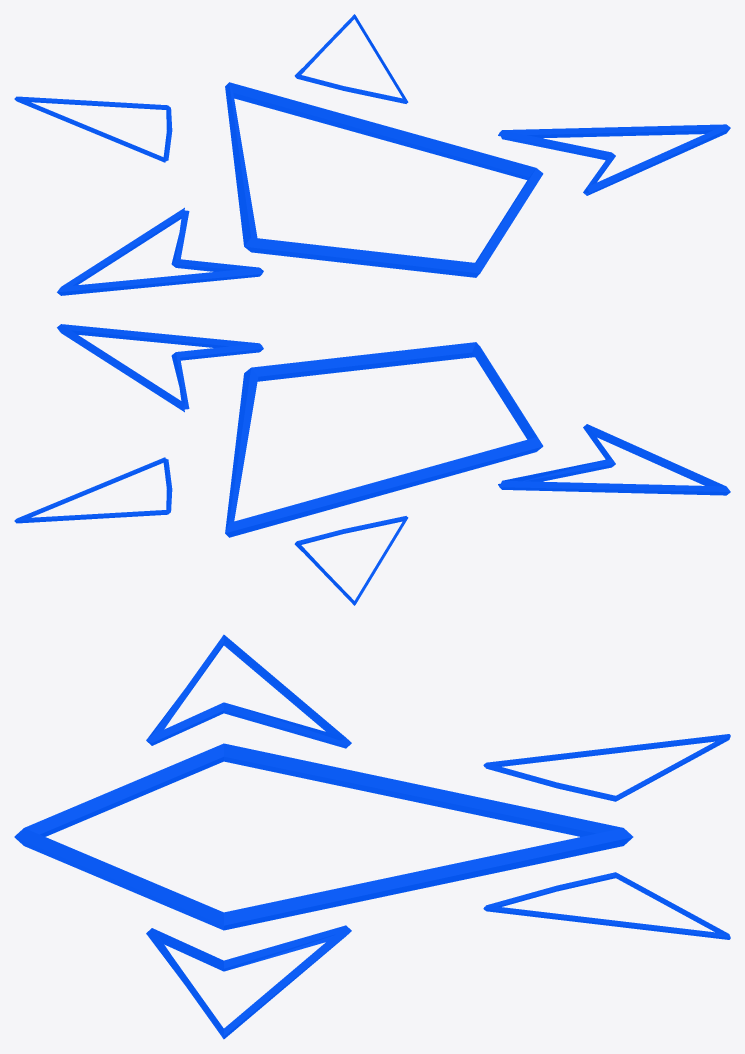
The model's file is DanDan.glb.
3 renders of one model, top to bottom at view 1: azimuth 30°, elevation 25°; view 2: azimuth 150°, elevation 25°; view 3: azimuth 270°, elevation 25°, orthographic. The views are drawn at different scales.
Visible parts, largest first — view 1: Torus, Torus.001, Torus.002, Torus.003, Torus.004; view 2: Torus, Torus.002, Torus.001, Torus.004, Torus.003; view 3: Torus, Torus.001, Torus.002, Torus.003, Torus.004.
Boxes of the visible parts, x1,y1,x2,y2 form: Torus: (225, 82, 543, 277); Torus.001: (498, 124, 730, 195); Torus.002: (57, 207, 263, 295); Torus.003: (14, 96, 172, 162); Torus.004: (294, 14, 408, 103); Torus: (225, 342, 543, 537); Torus.002: (498, 424, 730, 495); Torus.001: (57, 324, 263, 412); Torus.004: (14, 457, 172, 523); Torus.003: (294, 516, 408, 605); Torus: (14, 743, 633, 930); Torus.001: (146, 925, 351, 1039); Torus.002: (146, 634, 351, 748); Torus.003: (483, 734, 730, 801); Torus.004: (483, 872, 730, 939).
Size of the model in its own units: 4.25 by 0.09 by 3.23.
